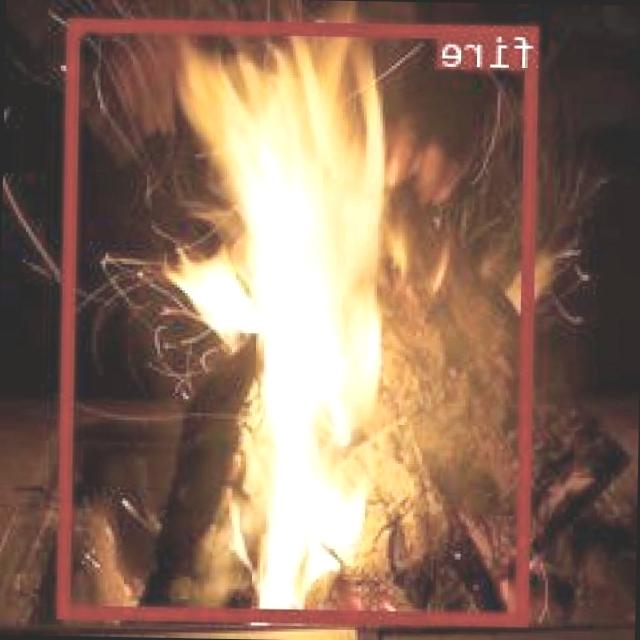fire: (61, 16, 540, 624)
